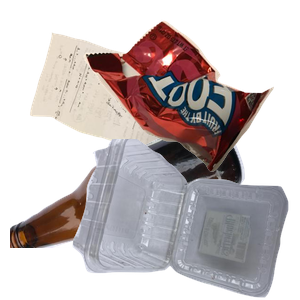glass: (10, 120, 247, 300)
paper: (27, 30, 203, 178)
plastic: (70, 139, 300, 300)
trash: (81, 18, 300, 182)
